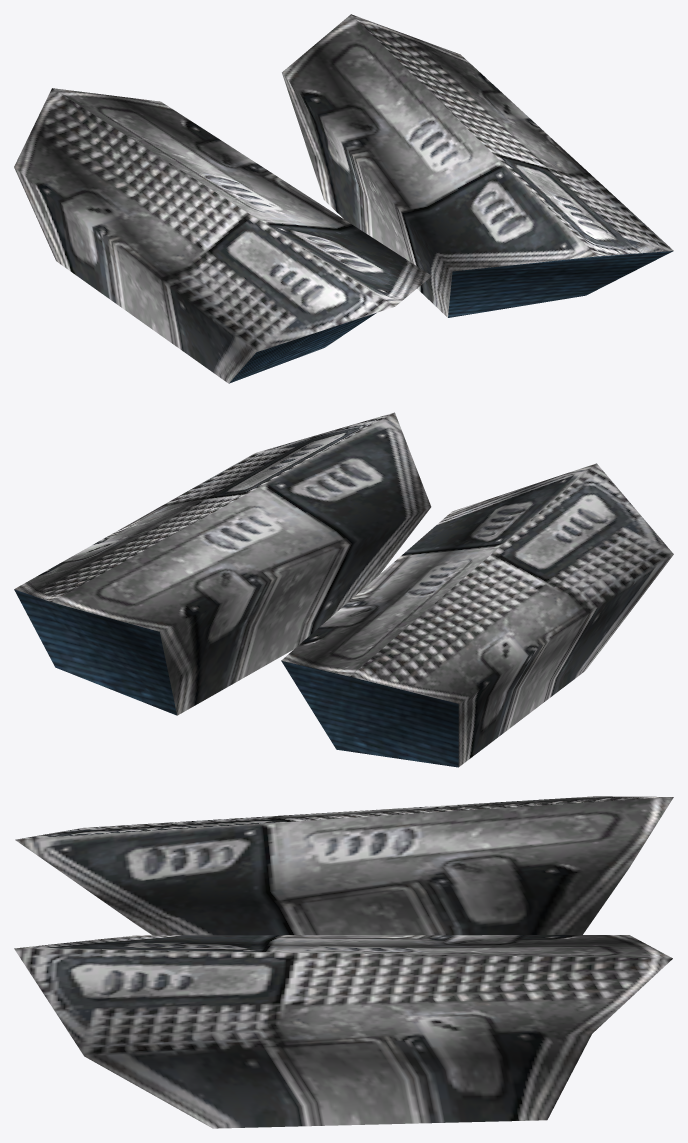
The model's file is ArmPads2.glb.
The picture shows the model from 3 angles, top to bottom: view 1: azimuth 30°, elevation 25°; view 2: azimuth 150°, elevation 25°; view 3: azimuth 270°, elevation 25°; orthographic projection. The views are drawn at different scales.
Visible parts, largest first — view 1: ArmPads2; view 2: ArmPads2; view 3: ArmPads2.
Part boxes in pixels (x1,y1,x2,y2): ArmPads2: [14, 14, 673, 383]; ArmPads2: [14, 412, 673, 767]; ArmPads2: [14, 796, 673, 1128].
Bounding box in the file's own units: 16.02 × 4.96 × 18.39.
Materials: 1 (1 with a texture image).
